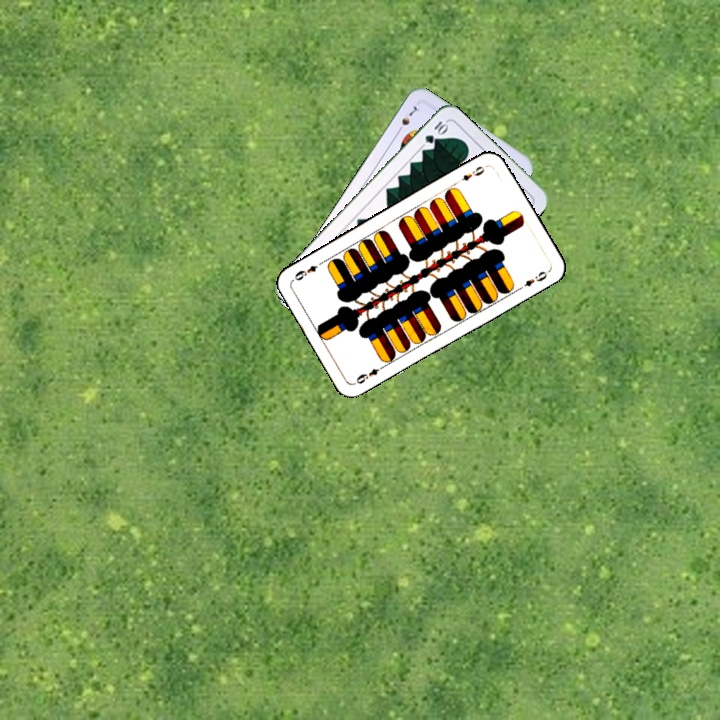E9: (351, 361, 388, 387), (458, 161, 490, 184)
G10: (421, 117, 451, 146)
S7: (393, 101, 422, 136)
